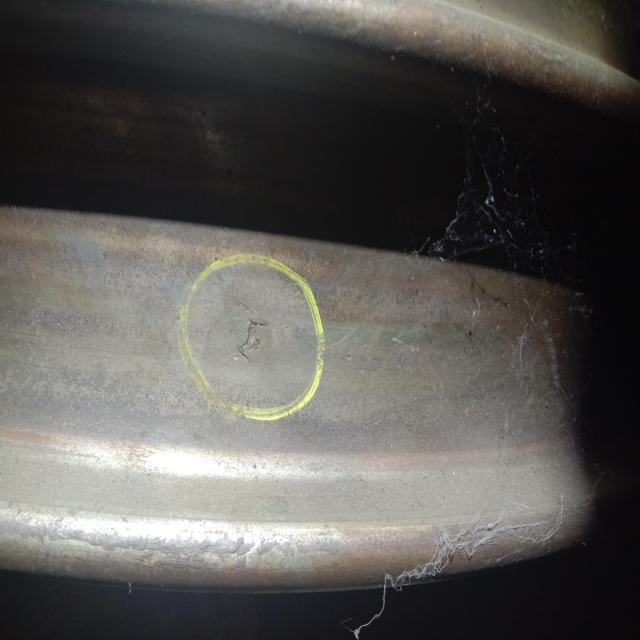Peeling: (230, 303, 268, 362)
